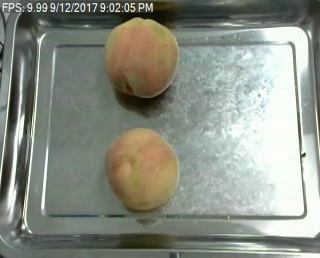Peach: (104, 126, 180, 209), (104, 16, 178, 98)
